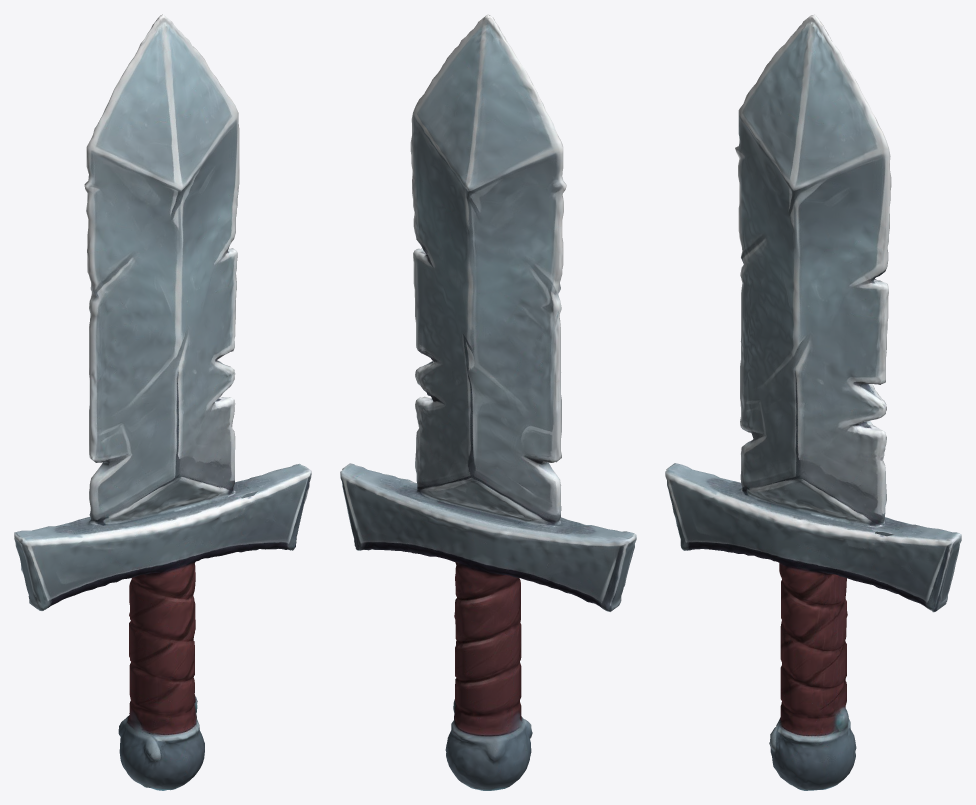
File: sword_animation-ld.glb
The picture shows the model from 3 angles, left to right: view 1: azimuth 30°, elevation 25°; view 2: azimuth 150°, elevation 25°; view 3: azimuth 330°, elevation 25°; orthographic projection.
Size of the model in its own units: 0.7476 by 1.91 by 0.1918.
Materials: 1 (1 with a texture image).
